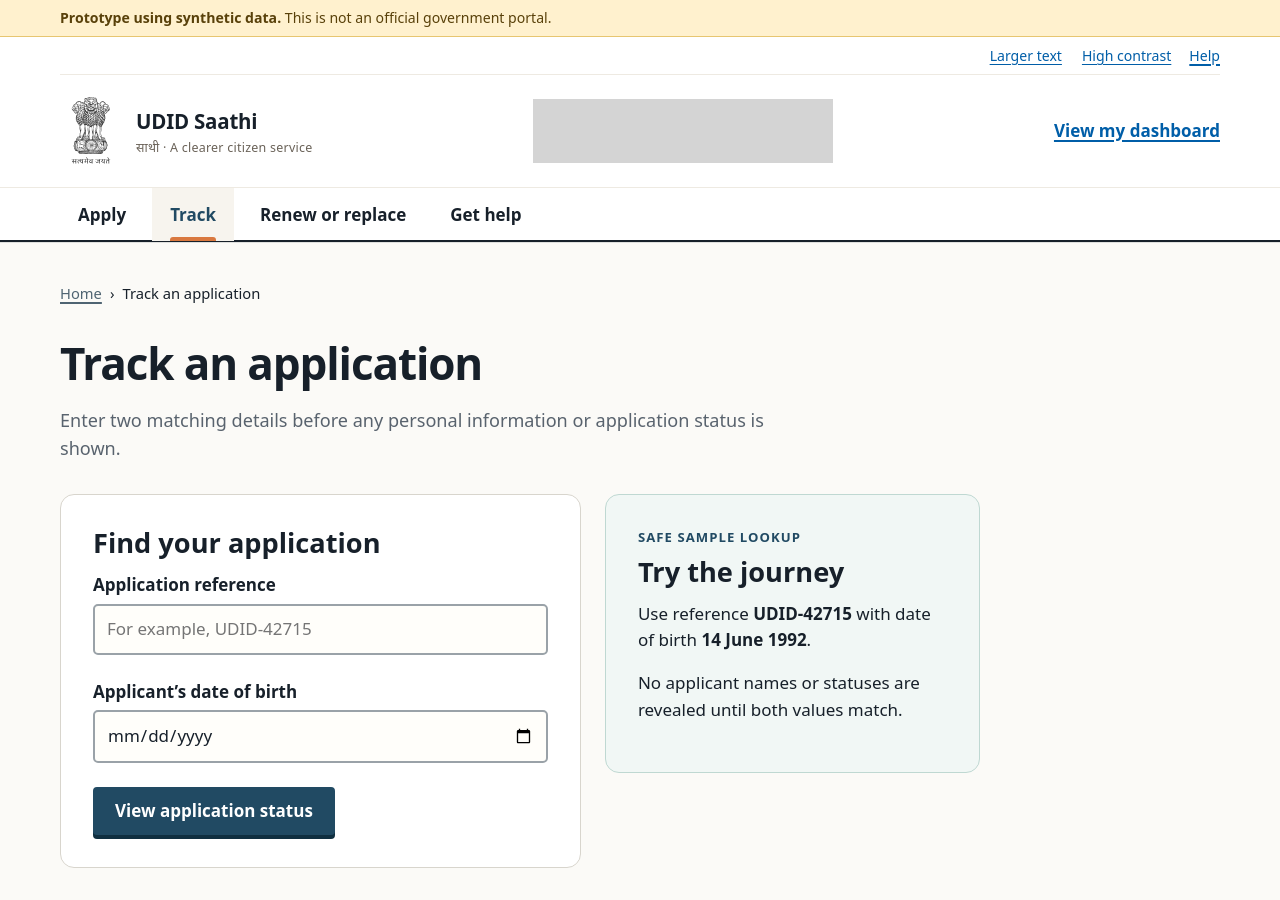
Test: privacy-safe tracking journey › opens the matching dashboard after both values are verified
Type "UDID-42715" into the field labelled "Application reference" at (320, 629), box [93,604,548,655]
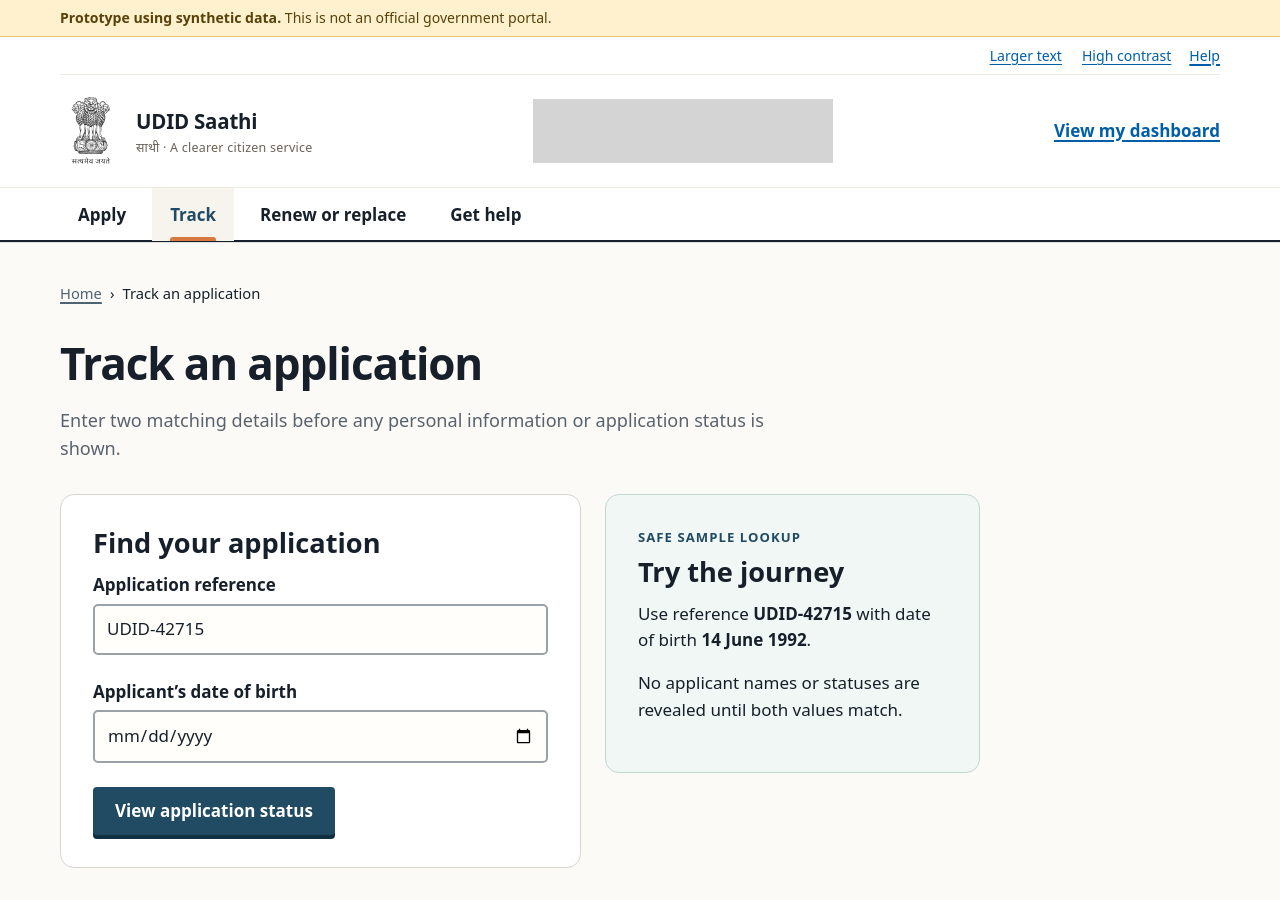
Type "1992-06-14" into the date field labelled "Applicant’s date of birth" at (320, 737), box [93,710,548,763]
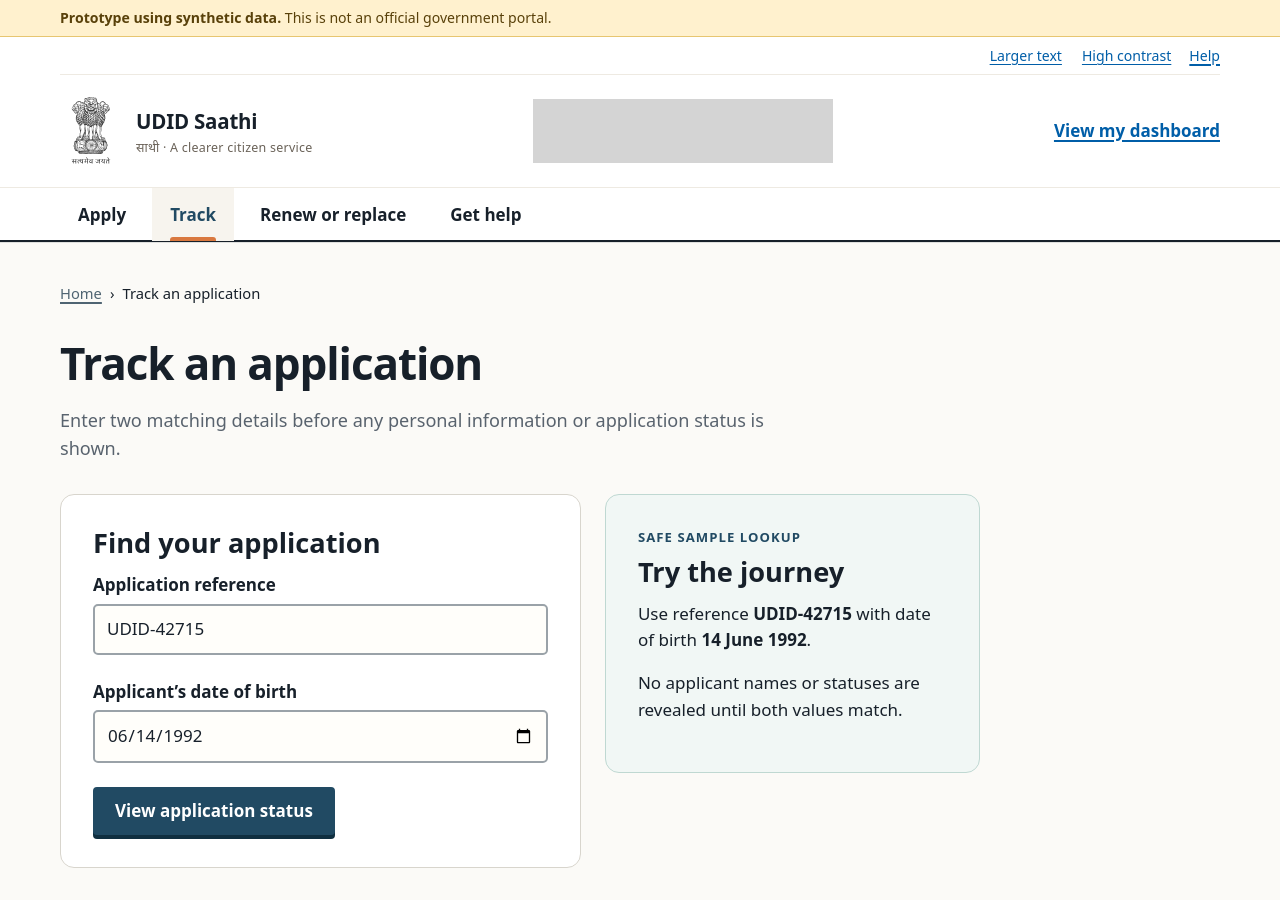
Click the button "View application status" at (214, 811), box [93,787,335,835]
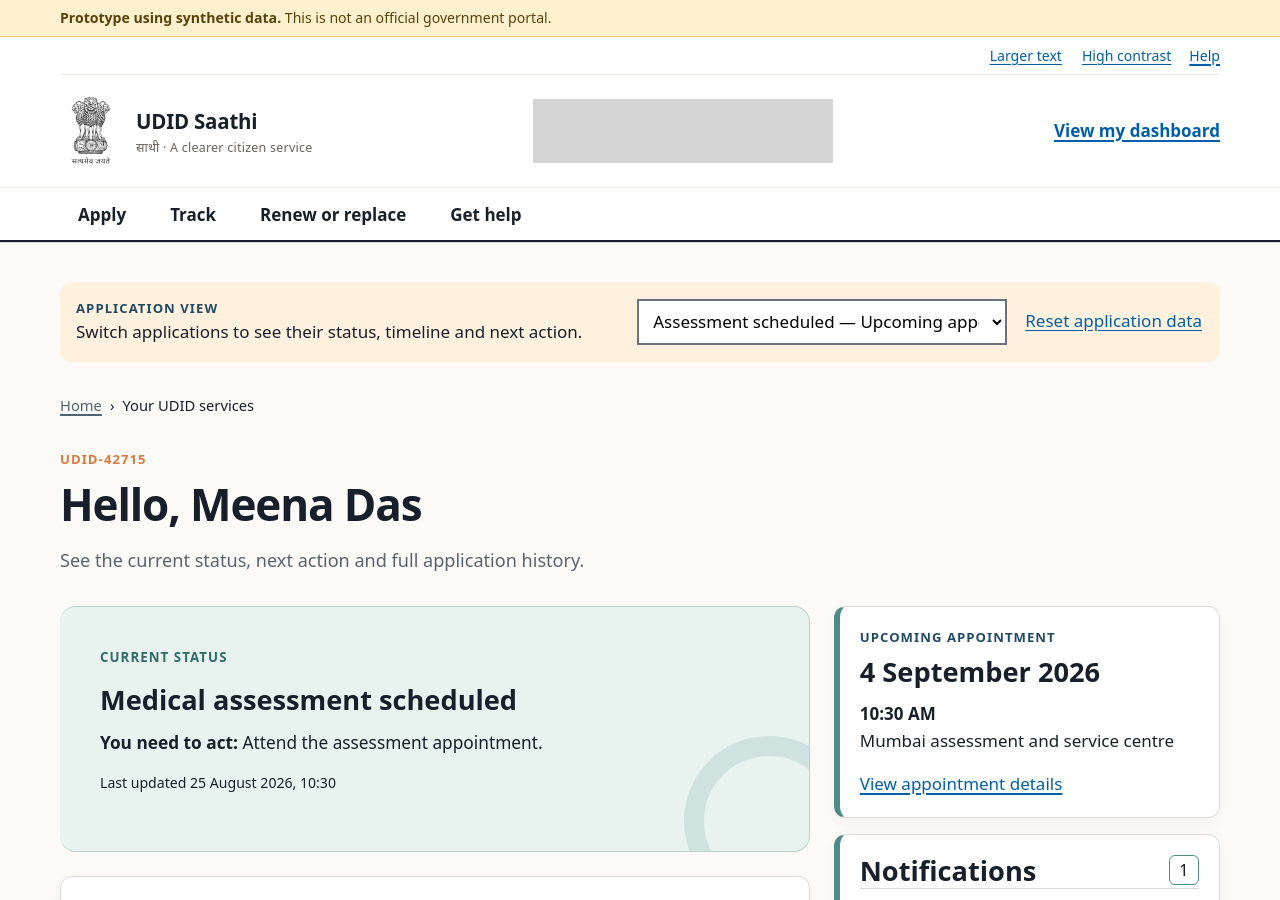
expect the heading "Hello, Meena Das" is shown: met, box [60,474,422,534]
